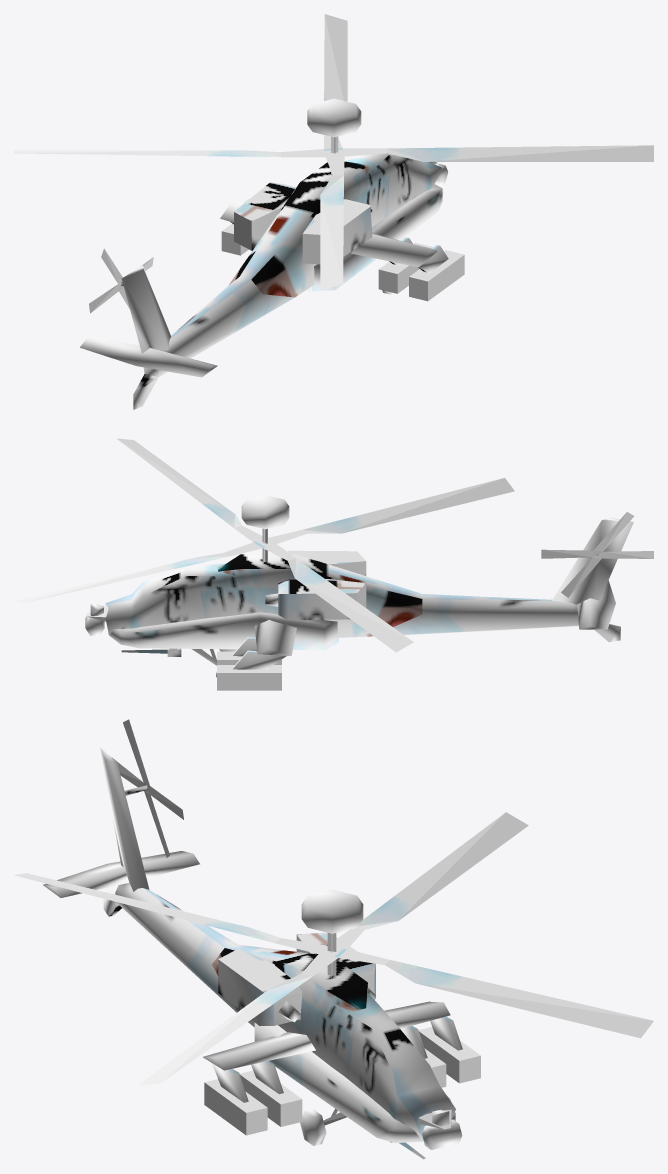
The model's file is static.ico.obj.
3 renders of one model, top to bottom at view 1: azimuth 30°, elevation 25°; view 2: azimuth 150°, elevation 25°; view 3: azimuth 270°, elevation 25°, orthographic. The views are drawn at different scales.
Size of the model in its own units: 4.97 by 1.55 by 4.13.
